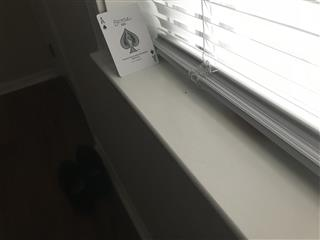AceOfSpades: (95, 3, 159, 77)
